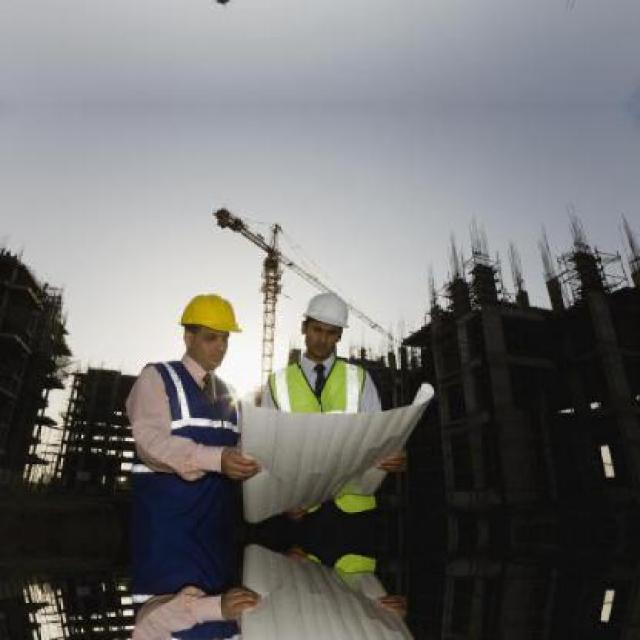Reflective-Jacket: (262, 353, 389, 528), (112, 355, 252, 492)
Safety-Helmet: (168, 285, 250, 344), (291, 287, 357, 336)
